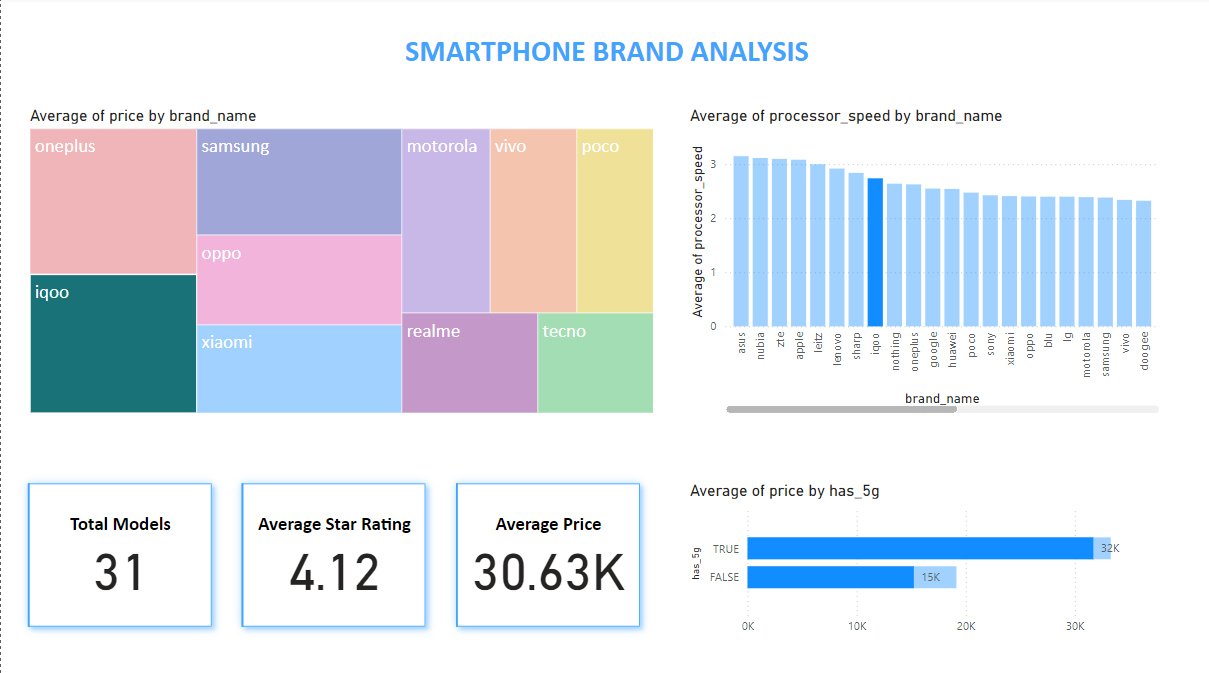

The page's visual inventory and layout, read from the dashboard file:
{"tool":"powerbi","page":{"name":"Page 1","canvas":[1280,720],"ordinal":0},"visuals":[{"type":"textbox","box":[38.2,33.4,1208.9,66.8],"z":0},{"type":"treemap","fields":{"Values":["Avg(my_projects smartphones.price)"],"Group":["Query1.brand_name"]},"box":[25.4,116.1,671.2,330.8],"z":1000},{"type":"cardVisual","fields":{"Data":["Query1.brand","Query1.Average Star Rating","Query1.Average Price"]},"box":[11.1,499.5,685.6,186.1],"z":2000},{"type":"clusteredColumnChart","fields":{"Category":["my_projects smartphones.brand_name"],"Y":["Avg(my_projects smartphones.processor_speed)"]},"box":[712.6,116.1,547.2,330.8],"z":3000},{"type":"clusteredBarChart","fields":{"Category":["my_projects smartphones.has_5g"],"Y":["Avg(my_projects smartphones.price)"]},"box":[725.3,513.8,507.4,171.8],"z":4000}]}

Visuals, with their boxes in screenshot pixels (x1, y1, x2, y2), scaled from the page's 1280x720 canvas onto the 1209x673 screenshot:
textbox: 36,31,1178,94
treemap - Avg(my_projects smartphones.price) x Query1.brand_name: 24,109,658,418
cardVisual - Query1.brand x Query1.Average Star Rating: 10,467,658,641
clusteredColumnChart - my_projects smartphones.brand_name x Avg(my_projects smartphones.processor_speed): 673,109,1190,418
clusteredBarChart - my_projects smartphones.has_5g x Avg(my_projects smartphones.price): 685,480,1164,641
